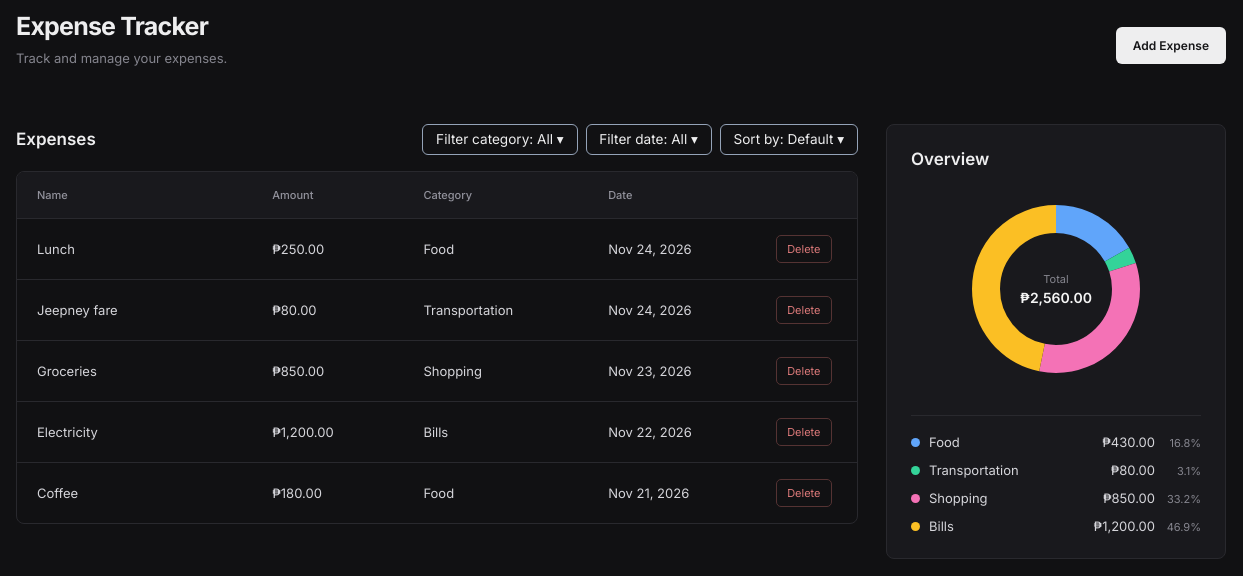
ExpenseTracker App › edits an existing expense name
The image size is (1243, 576).
Click the text "Lunch": coordinates (135, 249) [17,218,252,279]
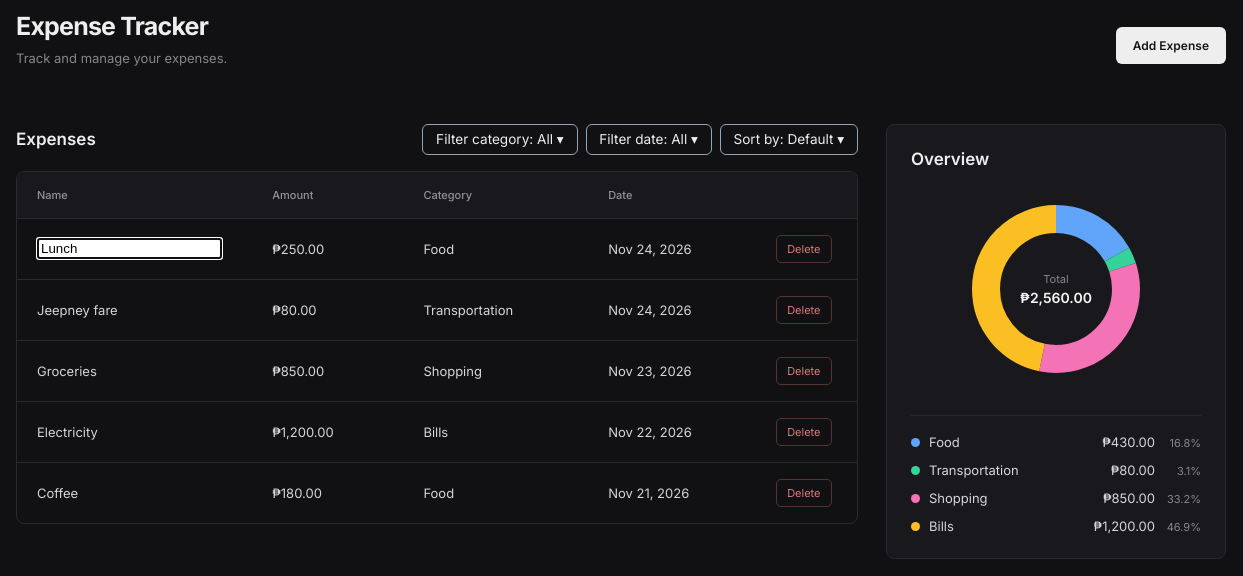
Replace the text in the field showing "Lunch" with "Updated Lunch": coordinates (130, 249) [37,238,222,259]
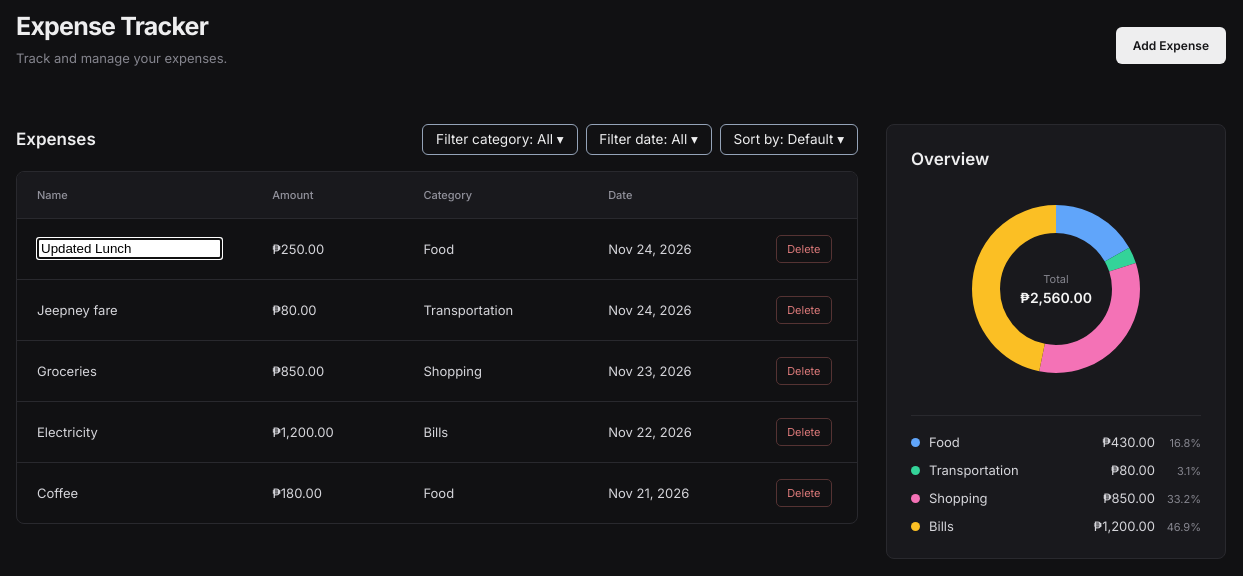
Press Enter in the field showing "Lunch", box [37,238,222,259]
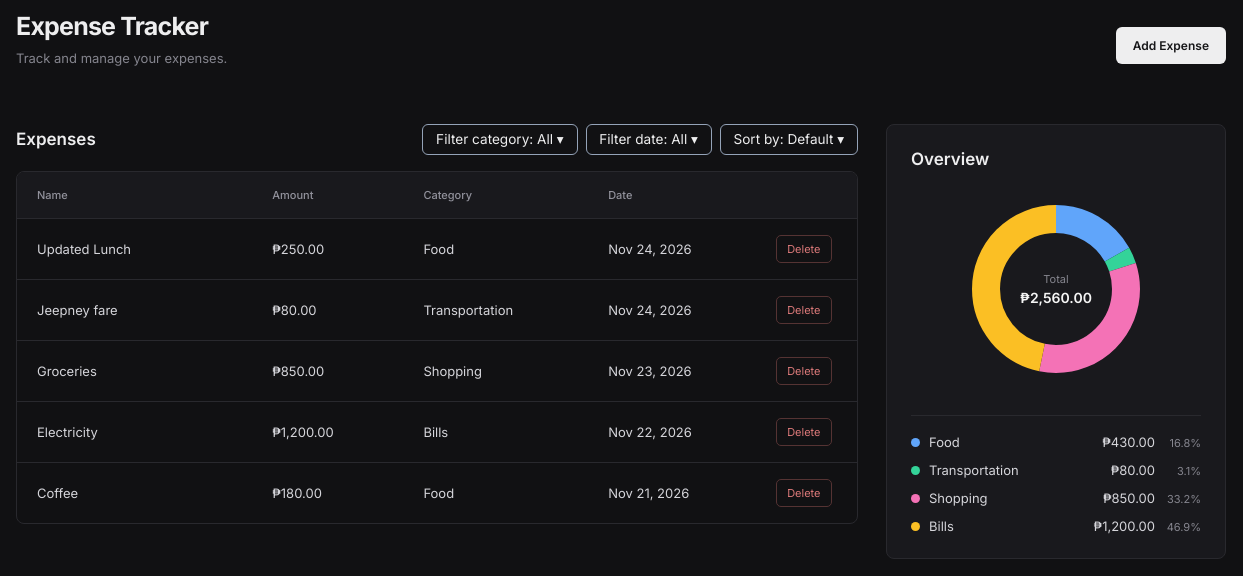
Expected: the text "Updated Lunch" is shown, [17,218,252,279]
